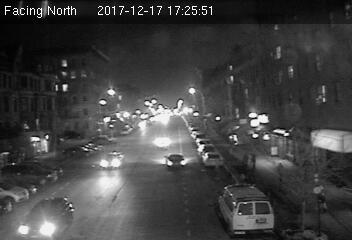car: (14, 198, 76, 240), (97, 151, 126, 169), (164, 152, 187, 169), (204, 151, 224, 167)
police: (215, 181, 273, 237)
